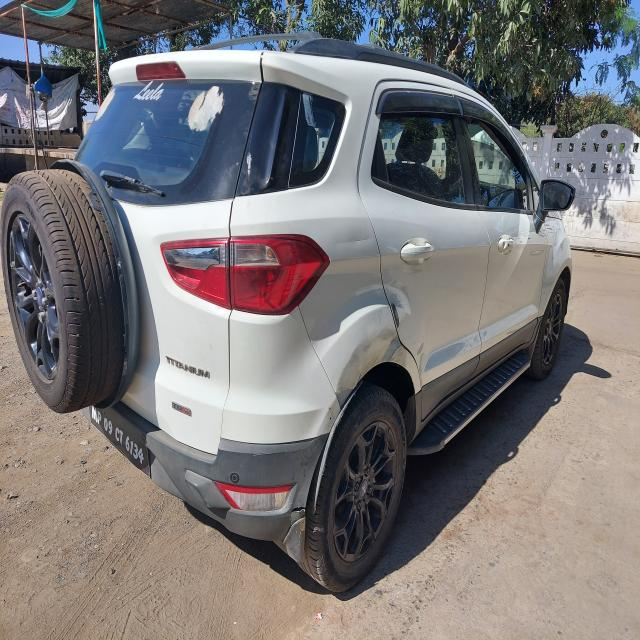damage: (353, 331, 412, 374), (385, 277, 420, 325), (281, 497, 308, 555), (335, 236, 372, 252), (334, 383, 355, 406), (242, 150, 256, 180), (320, 402, 335, 429)
